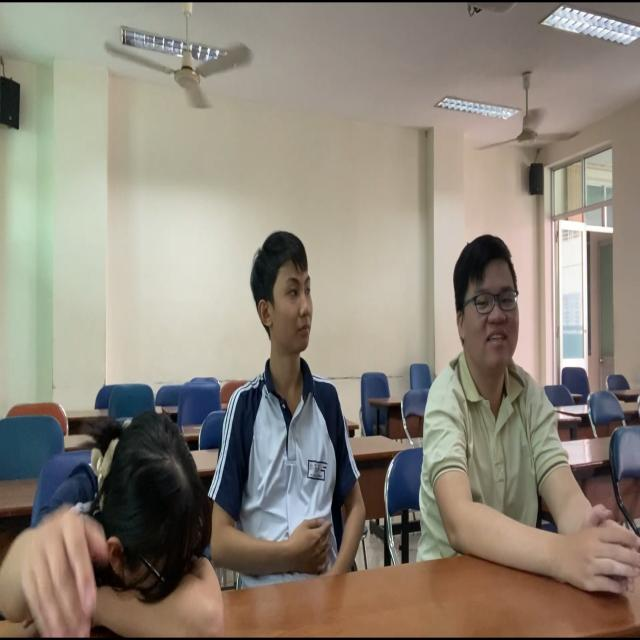sleep: (1, 413, 221, 640)
